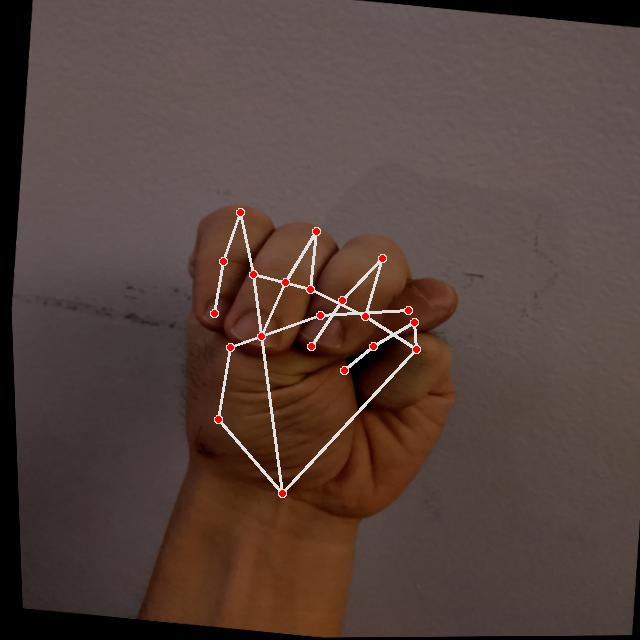M: (148, 191, 483, 534)
